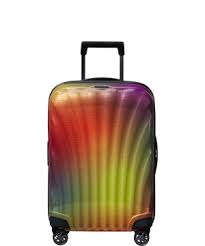suitcase: (44, 39, 160, 246)
